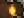torchT: (0, 1, 24, 18)
